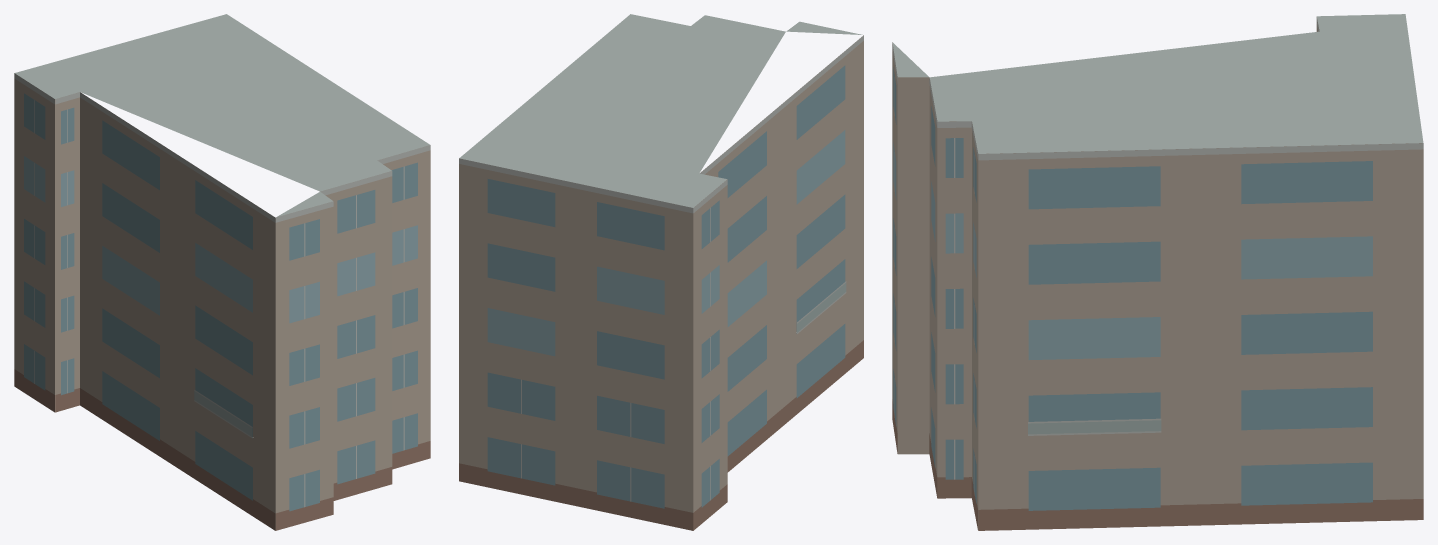
Rendered from survey-upis-32699708.glb.
3 renders of one model, left to right at view 1: azimuth 30°, elevation 25°; view 2: azimuth 150°, elevation 25°; view 3: azimuth 270°, elevation 25°, orthographic. The views are drawn at different scales.
Visible parts, largest first — view 1: survey-upis-32699708.tmp; view 2: survey-upis-32699708.tmp; view 3: survey-upis-32699708.tmp.
Boxes of the visible parts, bbox=[...] form: survey-upis-32699708.tmp: bbox=[14, 14, 430, 530]; survey-upis-32699708.tmp: bbox=[459, 14, 863, 530]; survey-upis-32699708.tmp: bbox=[892, 14, 1423, 530].
Size of the model in its own units: 11.4 by 14.3 by 18.27.
